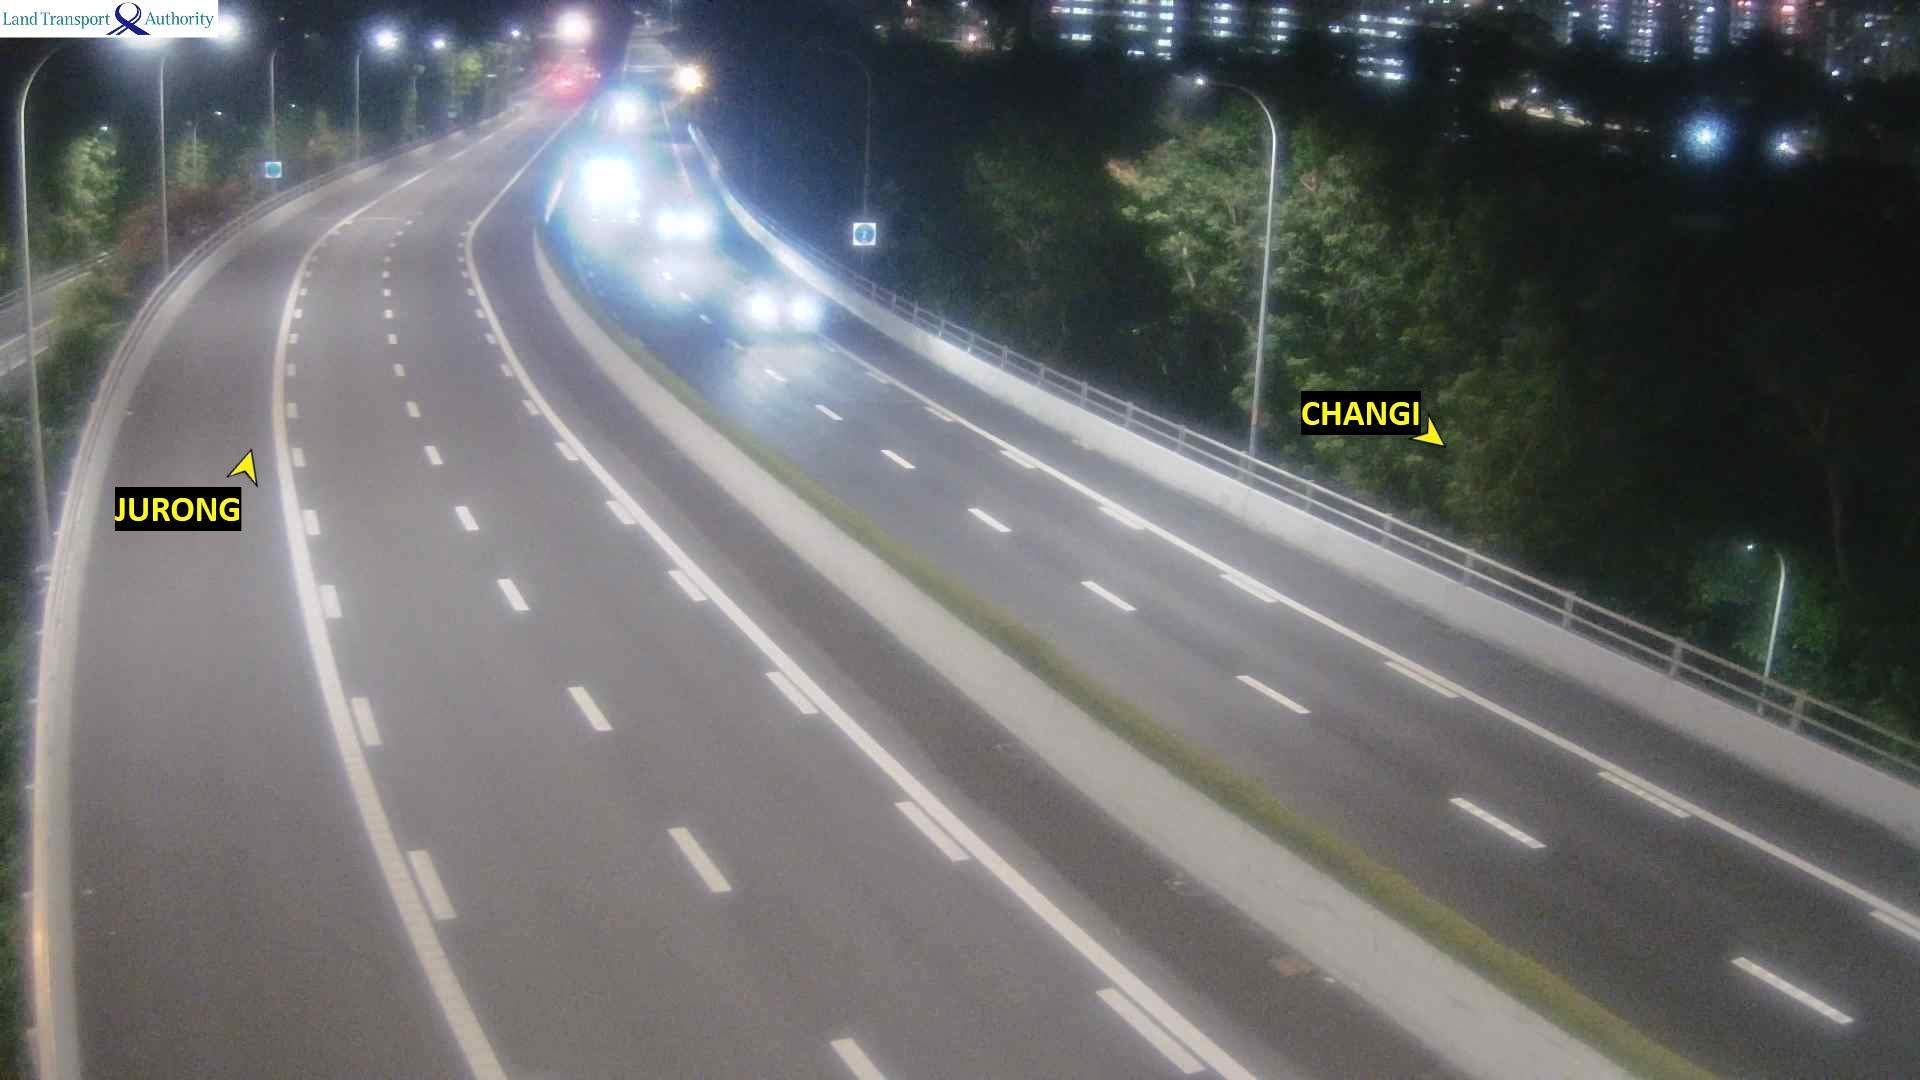cars: (737, 282, 843, 343), (576, 151, 642, 224), (651, 195, 714, 245), (606, 84, 647, 131)
